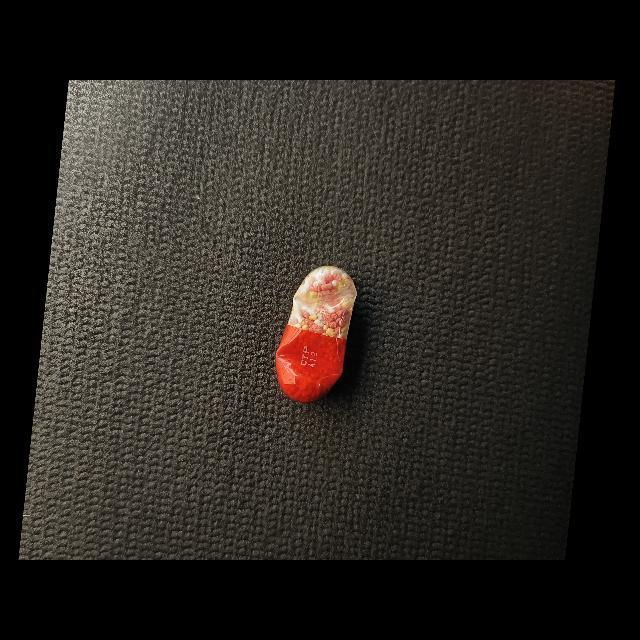Defective Capsule: (275, 266, 357, 403)
